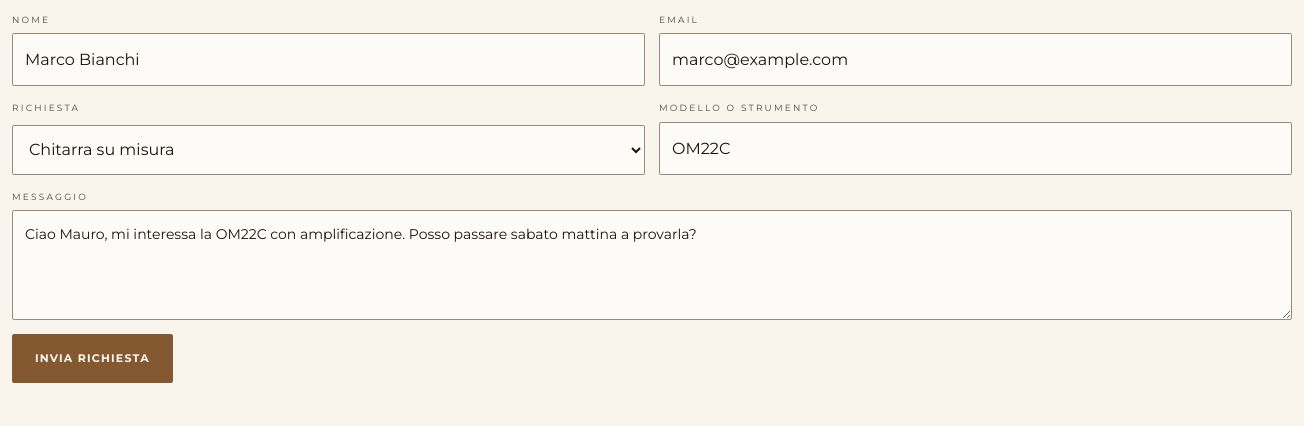
ContactForm › segnala errore con email non valida
The width and height of the screenshot is (1304, 426).
Replace the text in the field with id "f-mail" with "non-valida" at (976, 60), box x1=659 y1=33 x2=1292 y2=86
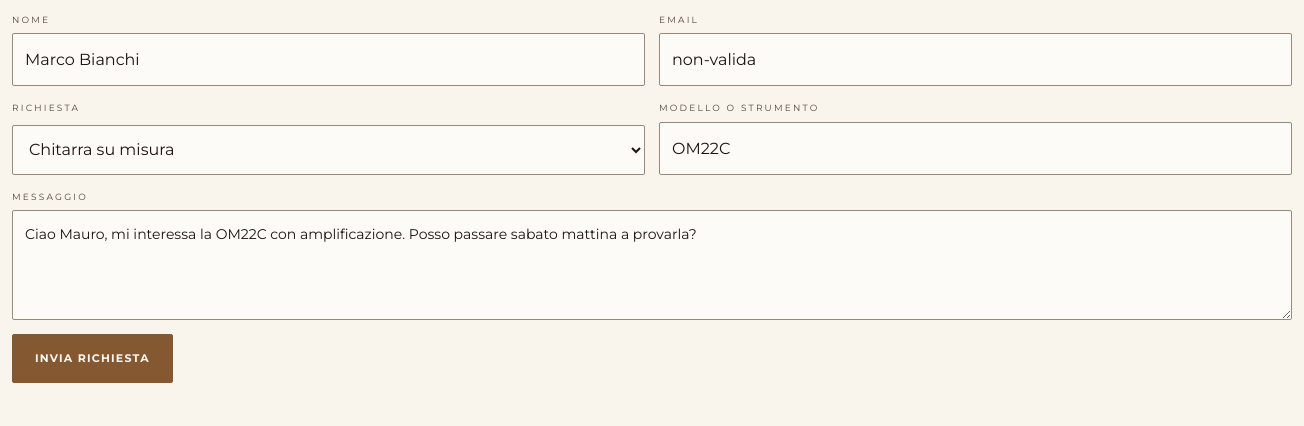
Submit the form
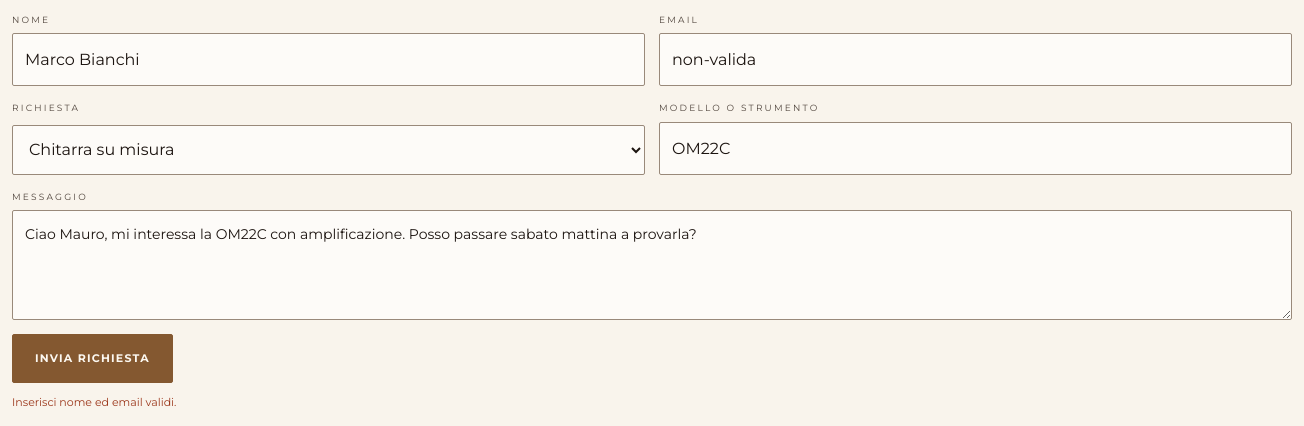
Result: the message with id "form-msg" reads "Inserisci nome ed email validi." at x1=12 y1=395 x2=176 y2=409
